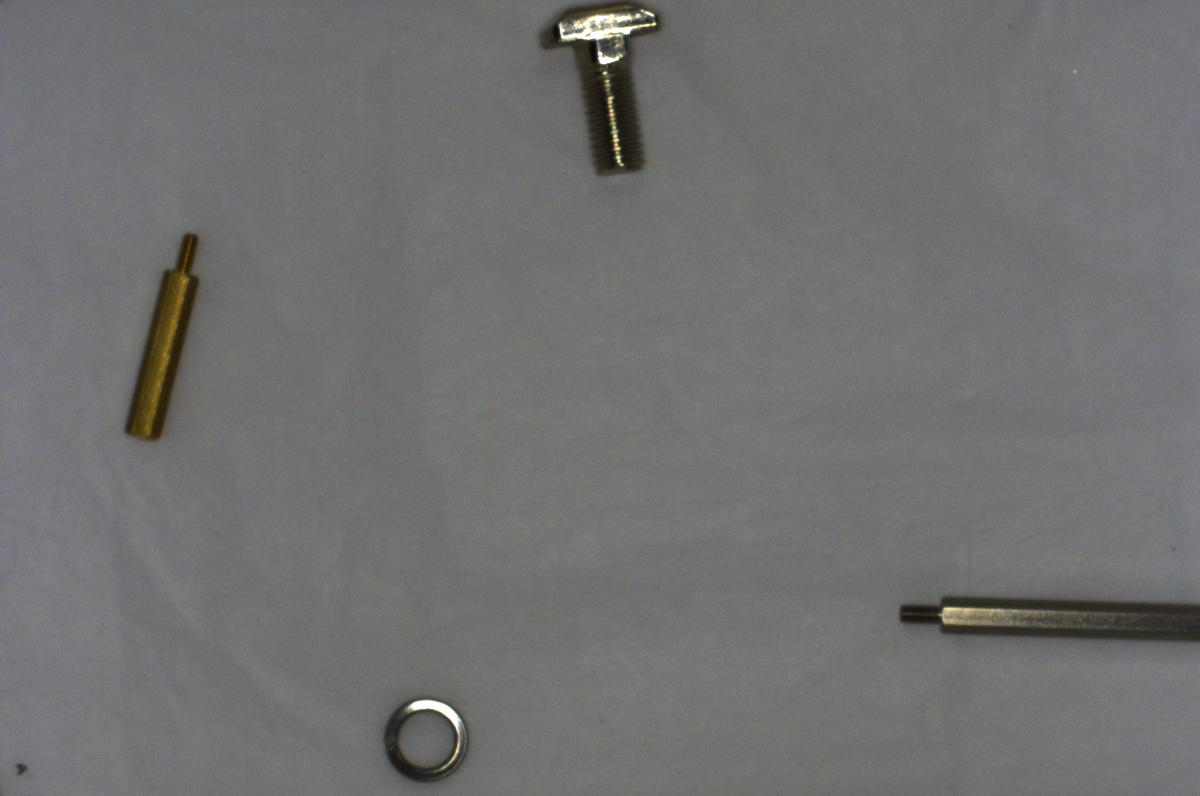Hexagon pillar: (111, 222, 207, 439)
Hexagonal steel column: (892, 579, 1197, 658)
Spring washer: (374, 688, 471, 790)
T-shaped screw: (531, 1, 659, 185)
